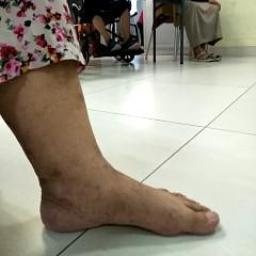Medial View -Left Foot-: (19, 138, 238, 250)
